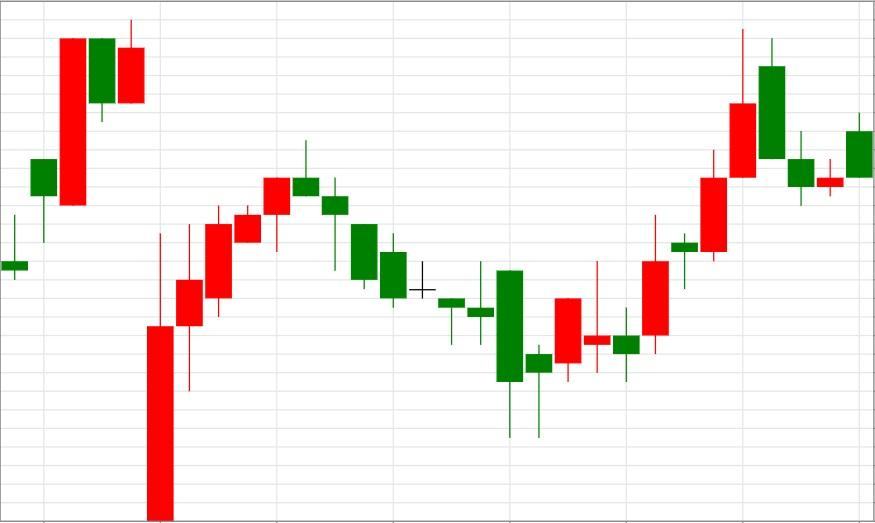three_black_crows_fall: (146, 139, 379, 522)
